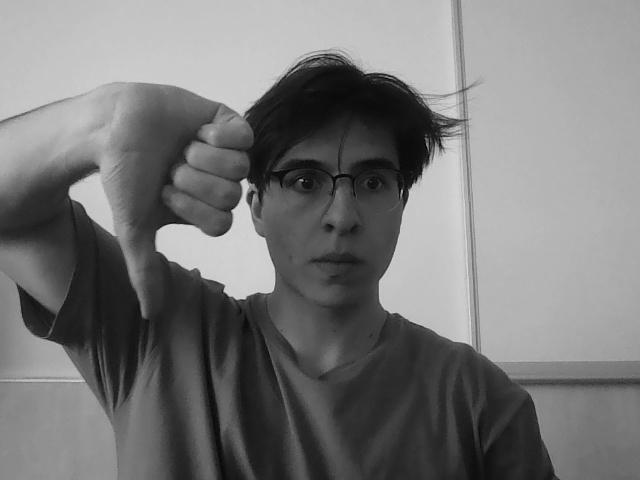bad: (106, 76, 250, 316)
